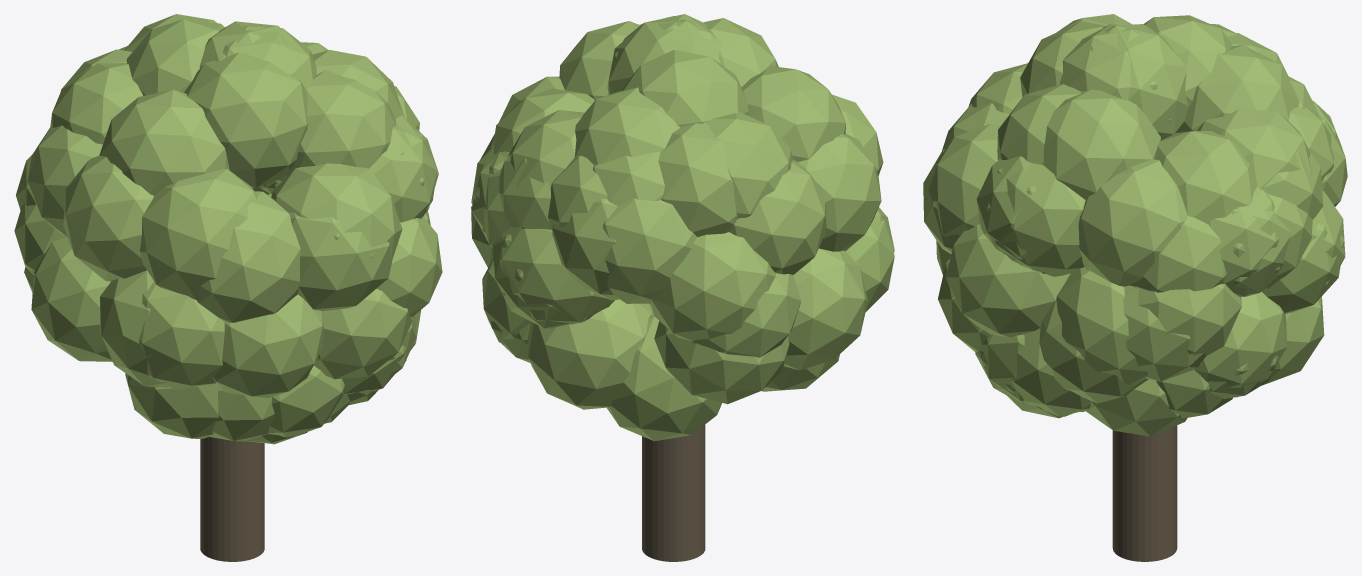
Rendered from Tree_2.fbx.
3 renders of one model, left to right at view 1: azimuth 30°, elevation 25°; view 2: azimuth 150°, elevation 25°; view 3: azimuth 270°, elevation 25°, orthographic.
Visible parts, largest first — view 1: Tree_2; view 2: Tree_2; view 3: Tree_2.
Boxes of the visible parts, x1,y1,x2,y2 form: Tree_2: (14,14,442,561); Tree_2: (471,14,894,561); Tree_2: (923,14,1347,561).
Size of the model in its own units: 167 by 224 by 165.
